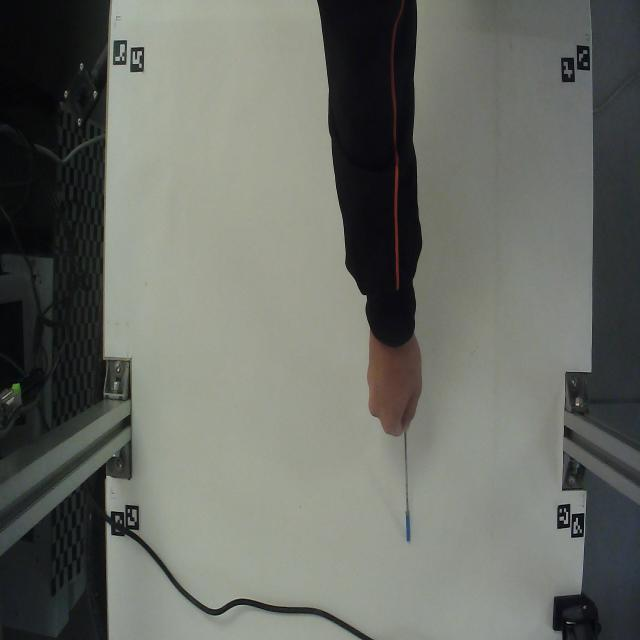Pres: (397, 419, 415, 567)
